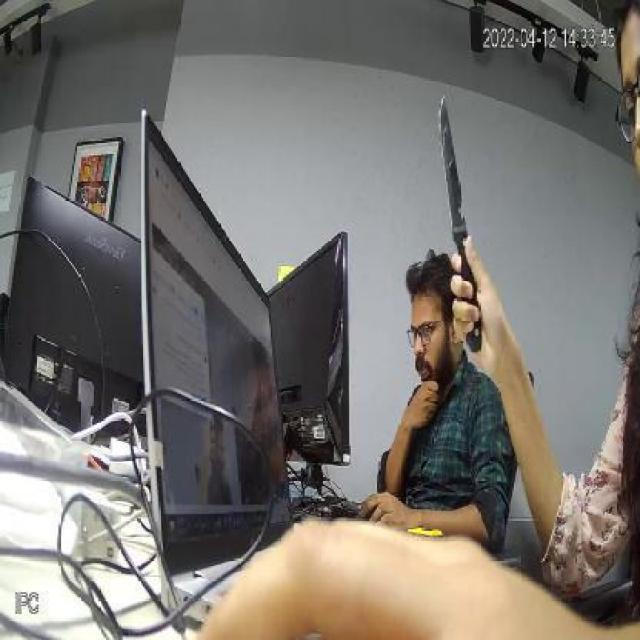-: (435, 88, 480, 265)
